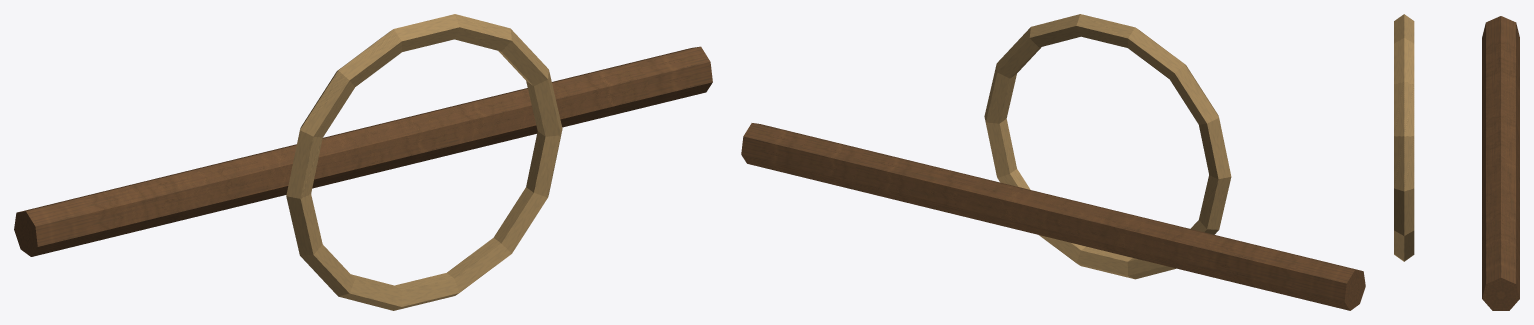
The model's file is en-019_signal_hill_dressing_set__logs.obj.
3 views of the same model, side by side, from view 1: azimuth 30°, elevation 25°; view 2: azimuth 150°, elevation 25°; view 3: azimuth 270°, elevation 25° (orthographic). The views are drawn at different scales.
Visible parts, largest first — view 1: en-019_signal_hill_dressing_set__logs; view 2: en-019_signal_hill_dressing_set__logs; view 3: en-019_signal_hill_dressing_set__logs.
Part boxes in pixels (x1,y1,x2,y2): en-019_signal_hill_dressing_set__logs: (14,14,712,310); en-019_signal_hill_dressing_set__logs: (741,14,1365,310); en-019_signal_hill_dressing_set__logs: (1394,14,1519,310).
Size of the model in its own units: 1.28 by 0.5109 by 0.2599.
2 materials, 2 textured.
